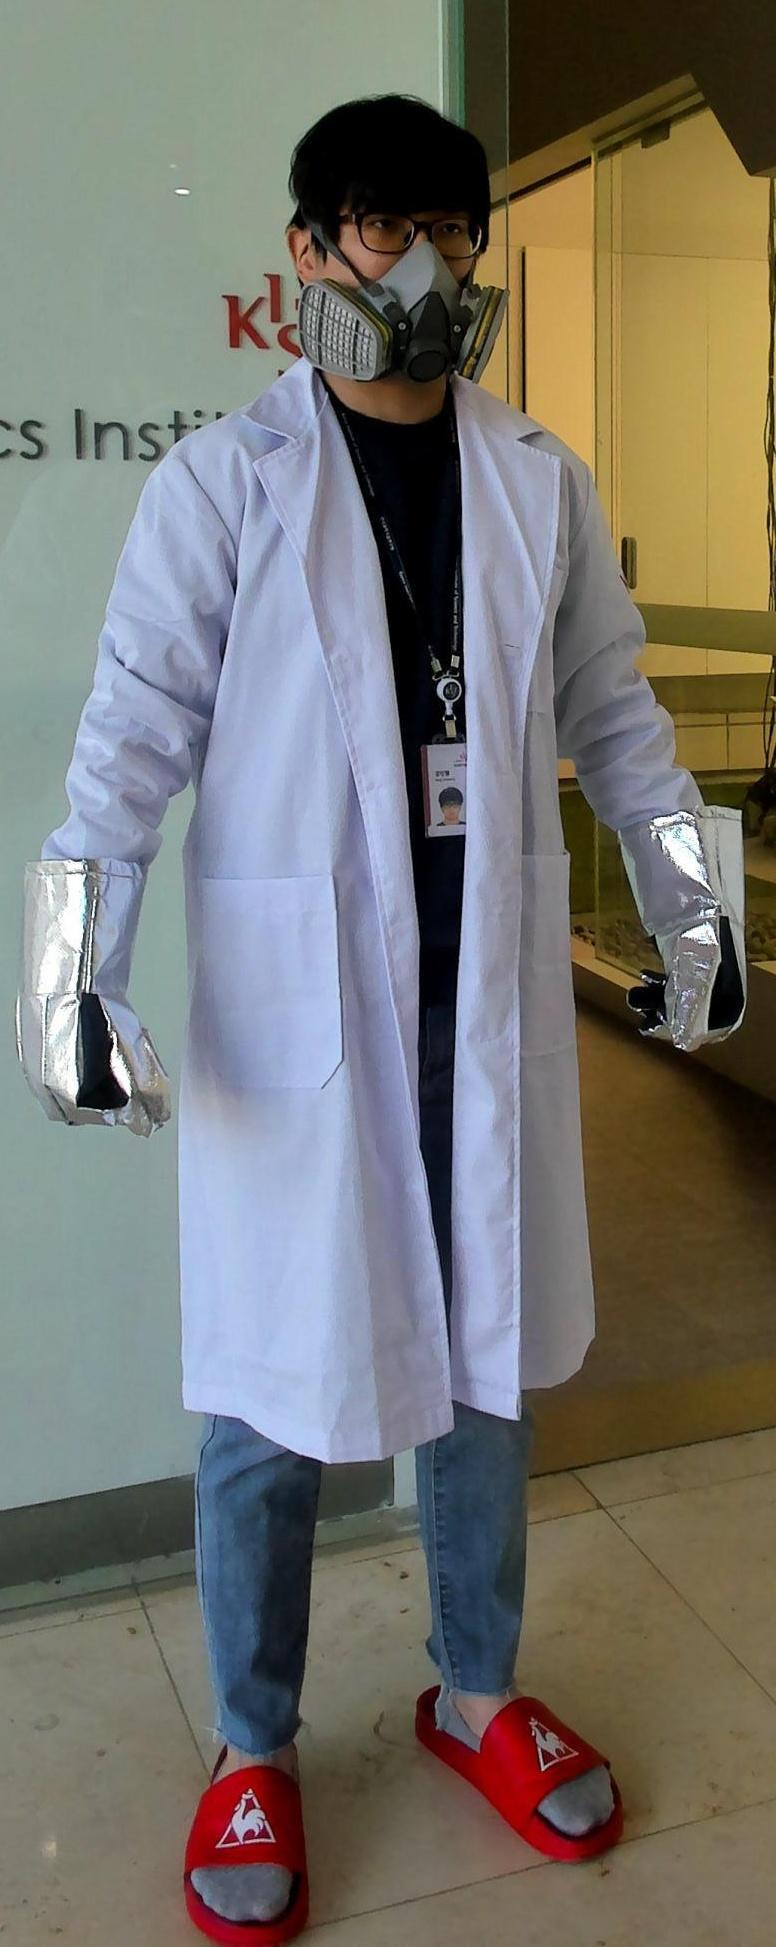lab_coat: (171, 461, 616, 1416)
